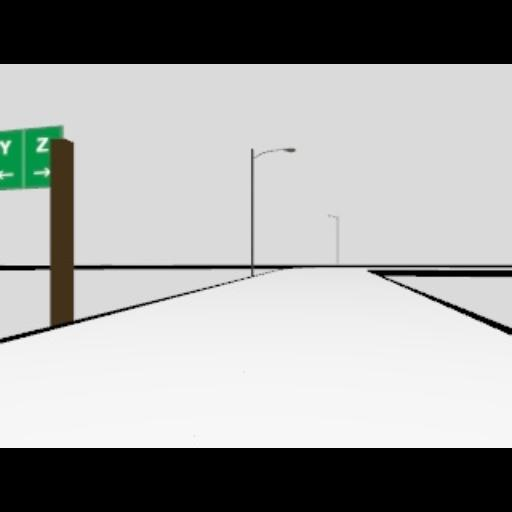Left: (0, 169, 14, 179)
Right: (34, 166, 50, 178)
Y: (0, 139, 12, 153)
Z: (36, 136, 48, 152)
